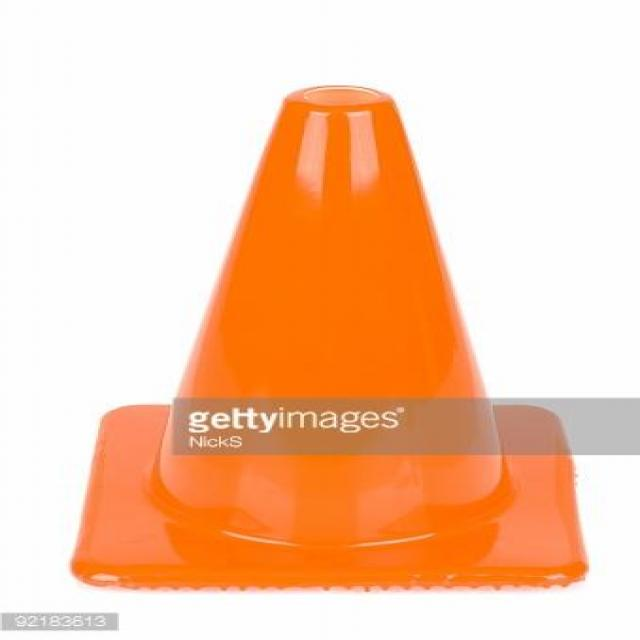Cone: (68, 84, 585, 590)
